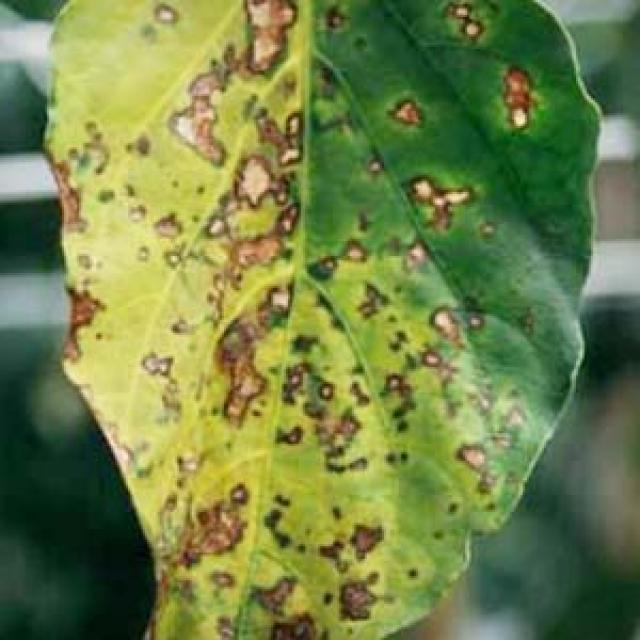Bacterial Spot: (118, 0, 532, 485)
